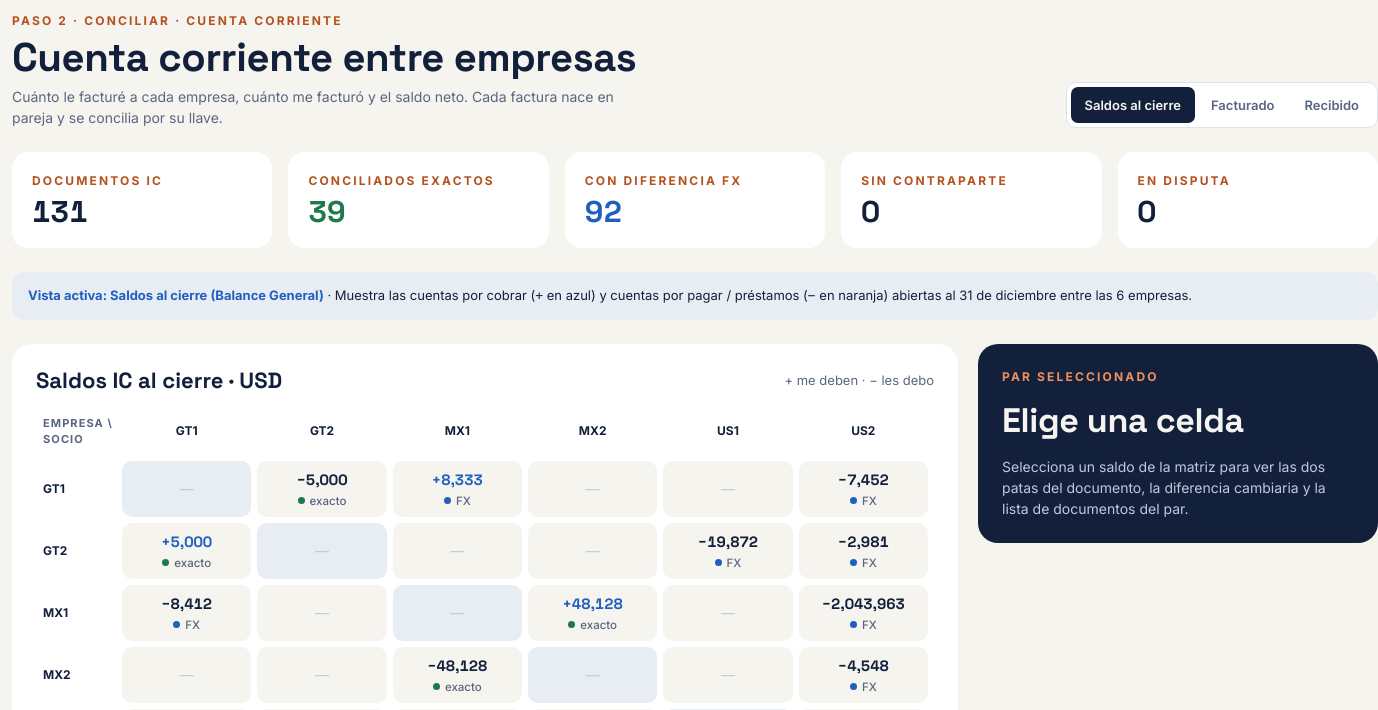
Test: CurrentAccountPage · escritorio › al seleccionar una celda abre el detalle del par con las patas espejo y los documentos
Click the button with aria-label "GT1 con MX1". click: (457, 489)
box: [393,461,522,517]
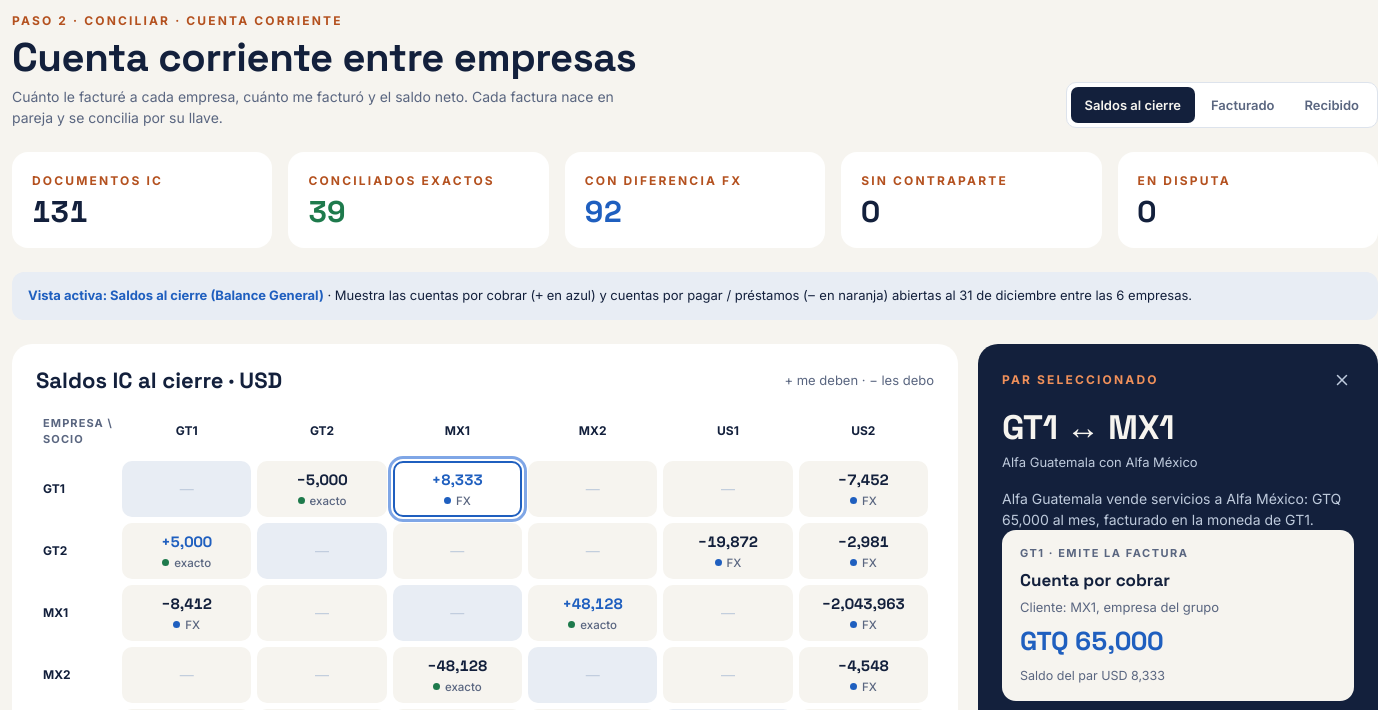
Expected: the heading "GT1 ↔ MX1" is shown, [1002,406,1174,449]
Expected: the text "Cuenta por cobrar" is shown, [1020,569,1170,591]
Expected: the text "Saldo del par USD 8,333" is shown, [1020,668,1165,683]
Click the button named "Cerrar detalle del par". click: (1342, 380)
box: [1320,358,1364,402]
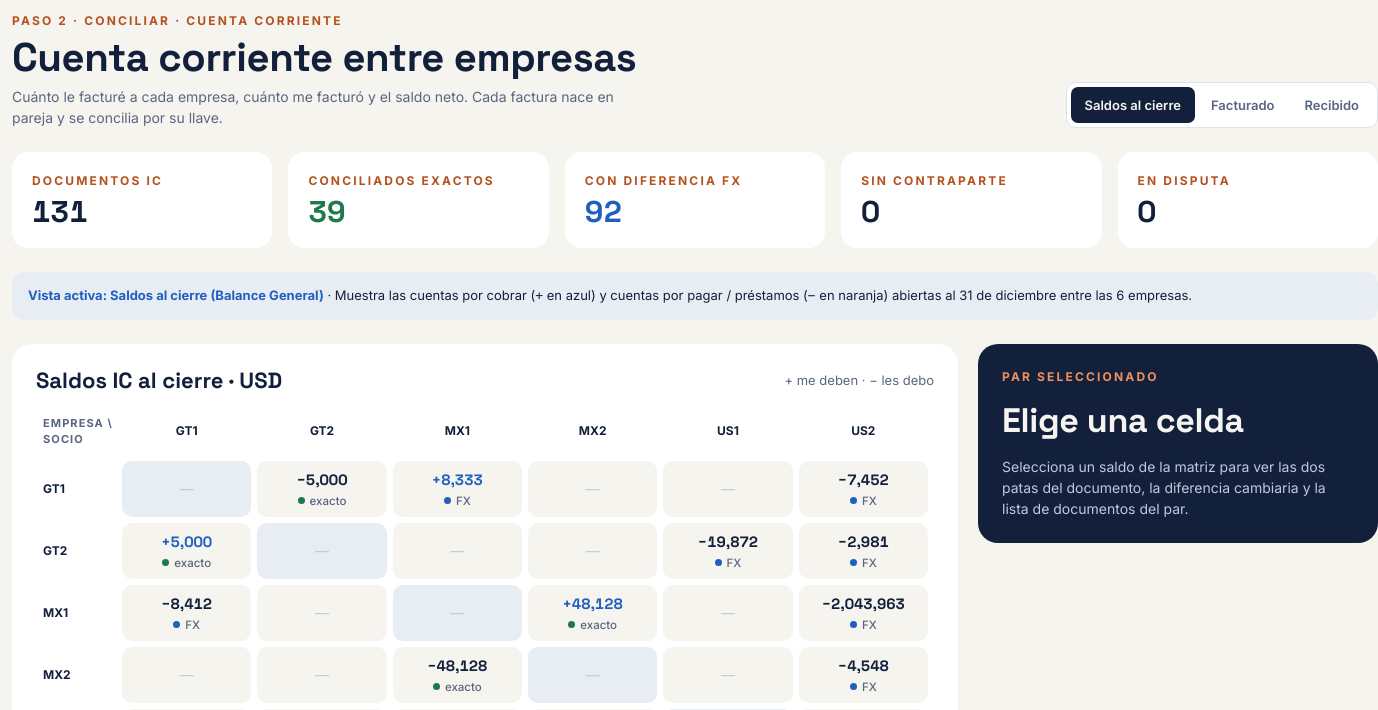
Expected: the heading "Elige una celda" is shown, [1002,399,1244,442]
